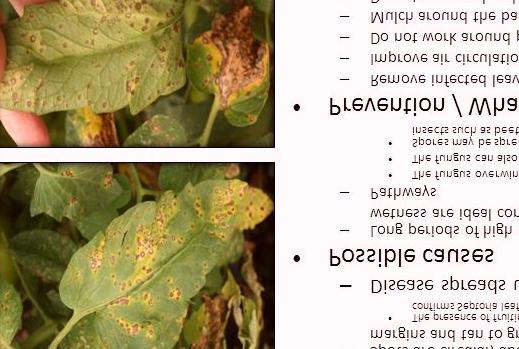Tomato Septoria leaf spot: (55, 177, 272, 349), (0, 0, 192, 116), (176, 0, 270, 137)
